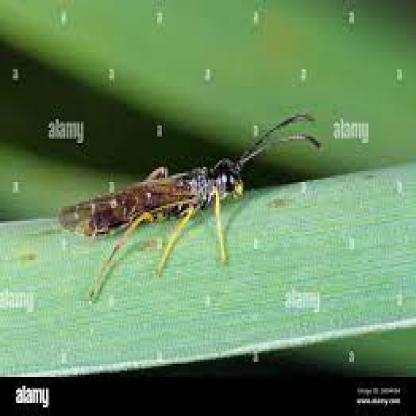sawfly: (58, 110, 328, 298)
